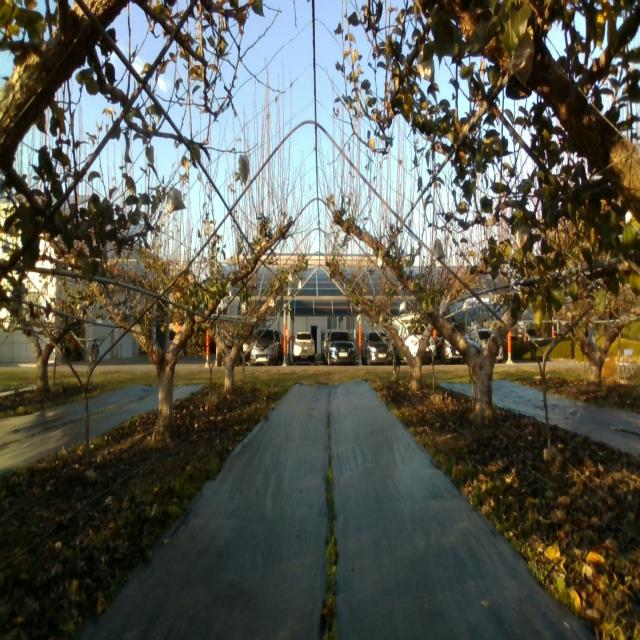pearbags: (418, 52, 436, 84), (167, 188, 186, 213), (238, 153, 250, 186), (432, 238, 446, 262)
